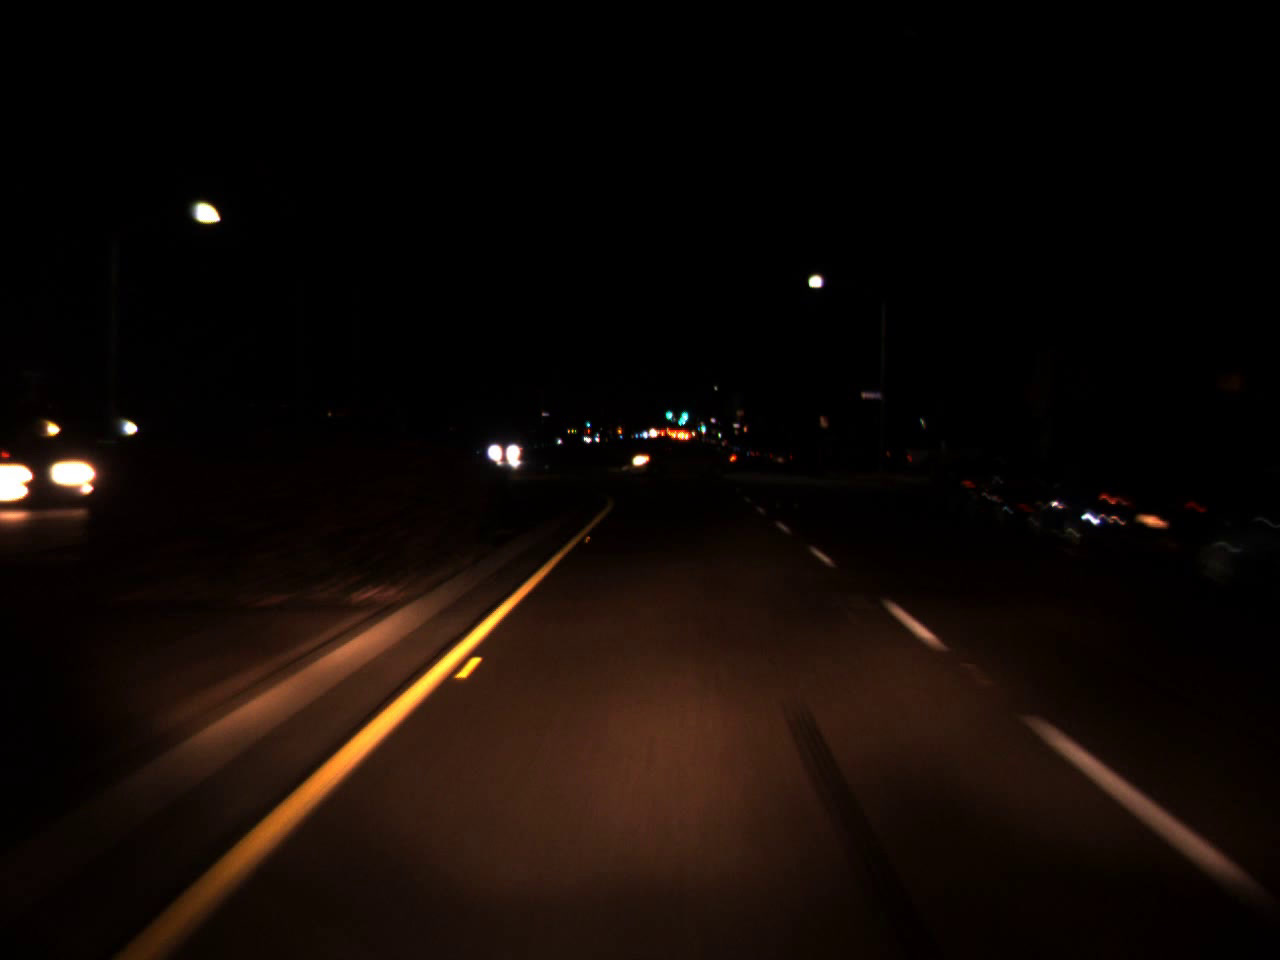go: (663, 401, 673, 422), (677, 401, 687, 422), (584, 417, 591, 429), (699, 419, 706, 432)
